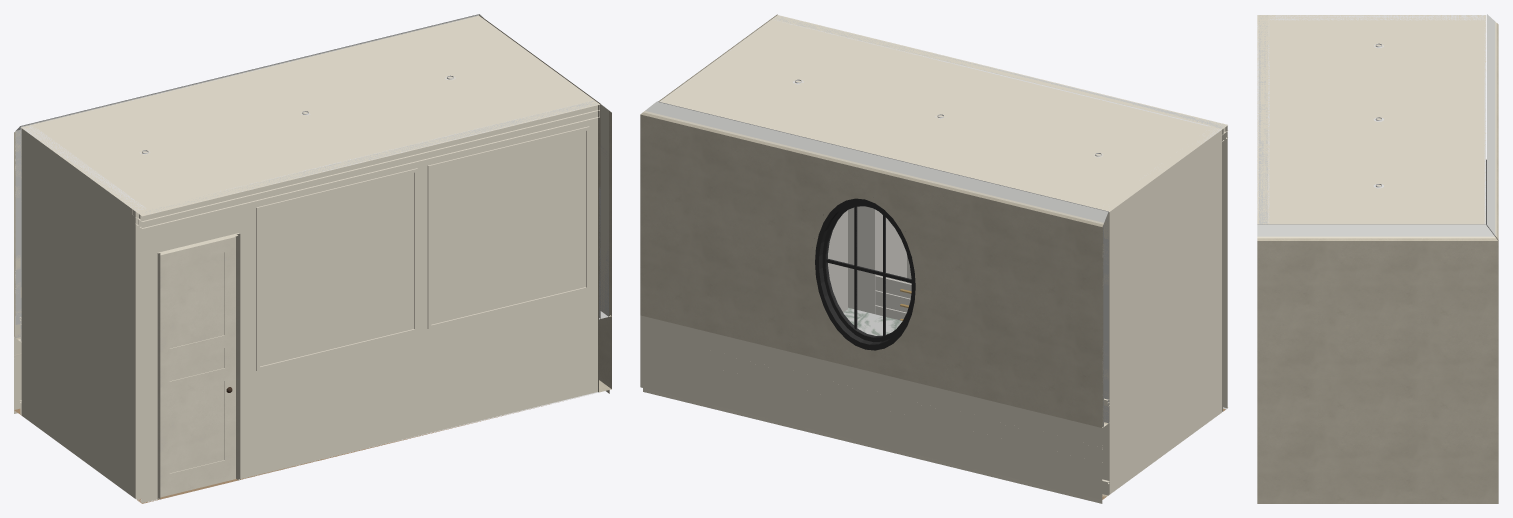
Rendered from primary-green-closet-966da18b311e.glb.
3 renders of one model, left to right at view 1: azimuth 30°, elevation 25°; view 2: azimuth 150°, elevation 25°; view 3: azimuth 270°, elevation 25°, orthographic. The views are drawn at different scales.
Visible parts, largest first — view 1: primary-green-closet-21ac2ed1b4475155, primary-green-closet-9d91b47435c6fb33, primary-green-closet-95b94d4b81cfb474, primary-green-closet-b7a870a0f6b43c8c, primary-green-closet-8e484a943eae90b2, primary-green-closet-c5fd04e49693d8cd, primary-green-closet-780708765654f3c3, primary-green-closet-91eb0f90e9e94d87, primary-green-closet-30f9d475162e2dd8, primary-green-closet-08e5178be0cf1e43, primary-green-closet-3a163573517a0810, primary-green-closet-92b1a6021e7b5e29 (+2 smaller); view 2: primary-green-closet-3763e2fb8578d282, primary-green-closet-9d91b47435c6fb33, primary-green-closet-3a806c711886e947, primary-green-closet-95b94d4b81cfb474, primary-green-closet-a35a5dd7ba934f7b, primary-green-closet-91eb0f90e9e94d87, primary-green-closet-f386269db15356c9, primary-green-closet-21ac2ed1b4475155, primary-green-closet-2575515a05775d9e, primary-green-closet-feba501210e42be9, primary-green-closet-ddb0cf611f7c1133, primary-green-closet-9e752e60c4602503 (+2 smaller); view 3: primary-green-closet-adb6f49a6d2cbec3, primary-green-closet-9d91b47435c6fb33, primary-green-closet-16d9002bc6318568, primary-green-closet-791abe15be22adf2, primary-green-closet-91eb0f90e9e94d87, primary-green-closet-21ac2ed1b4475155, primary-green-closet-3a163573517a0810, primary-green-closet-92b1a6021e7b5e29, primary-green-closet-95b94d4b81cfb474, primary-green-closet-2575515a05775d9e, primary-green-closet-30f9d475162e2dd8, primary-green-closet-3763e2fb8578d282 (+5 smaller).
Boxes of the visible parts, x1,y1,x2,y2 form: primary-green-closet-21ac2ed1b4475155: [136, 101, 598, 503]; primary-green-closet-9d91b47435c6fb33: [21, 15, 600, 216]; primary-green-closet-95b94d4b81cfb474: [21, 126, 145, 498]; primary-green-closet-b7a870a0f6b43c8c: [160, 236, 235, 497]; primary-green-closet-8e484a943eae90b2: [427, 126, 589, 329]; primary-green-closet-c5fd04e49693d8cd: [256, 168, 417, 370]; primary-green-closet-780708765654f3c3: [157, 233, 240, 499]; primary-green-closet-91eb0f90e9e94d87: [15, 14, 478, 341]; primary-green-closet-30f9d475162e2dd8: [600, 104, 609, 316]; primary-green-closet-08e5178be0cf1e43: [141, 104, 600, 228]; primary-green-closet-3a163573517a0810: [132, 98, 592, 224]; primary-green-closet-92b1a6021e7b5e29: [148, 111, 562, 211]; primary-green-closet-3763e2fb8578d282: [642, 112, 1103, 427]; primary-green-closet-9d91b47435c6fb33: [658, 14, 1226, 212]; primary-green-closet-3a806c711886e947: [640, 315, 1109, 499]; primary-green-closet-95b94d4b81cfb474: [1103, 128, 1221, 494]; primary-green-closet-a35a5dd7ba934f7b: [815, 198, 915, 350]; primary-green-closet-91eb0f90e9e94d87: [653, 102, 1108, 426]; primary-green-closet-f386269db15356c9: [848, 206, 911, 320]; primary-green-closet-21ac2ed1b4475155: [774, 15, 1227, 412]; primary-green-closet-2575515a05775d9e: [643, 388, 1225, 503]; primary-green-closet-feba501210e42be9: [828, 210, 847, 312]; primary-green-closet-ddb0cf611f7c1133: [644, 111, 1103, 426]; primary-green-closet-9e752e60c4602503: [843, 307, 902, 335]; primary-green-closet-adb6f49a6d2cbec3: [1257, 237, 1498, 432]; primary-green-closet-9d91b47435c6fb33: [1257, 15, 1486, 224]; primary-green-closet-16d9002bc6318568: [1257, 432, 1498, 501]; primary-green-closet-791abe15be22adf2: [1257, 224, 1495, 236]; primary-green-closet-91eb0f90e9e94d87: [1486, 14, 1495, 231]; primary-green-closet-21ac2ed1b4475155: [1257, 15, 1269, 224]; primary-green-closet-3a163573517a0810: [1268, 15, 1275, 224]; primary-green-closet-92b1a6021e7b5e29: [1260, 20, 1268, 224]; primary-green-closet-95b94d4b81cfb474: [1269, 15, 1484, 20]; primary-green-closet-2575515a05775d9e: [1257, 501, 1498, 503]; primary-green-closet-30f9d475162e2dd8: [1257, 236, 1496, 238]; primary-green-closet-3763e2fb8578d282: [1496, 23, 1498, 238].
Bounding box in the file's own units: 4.95 × 2.95 × 2.34.
22 materials, 5 textured.
